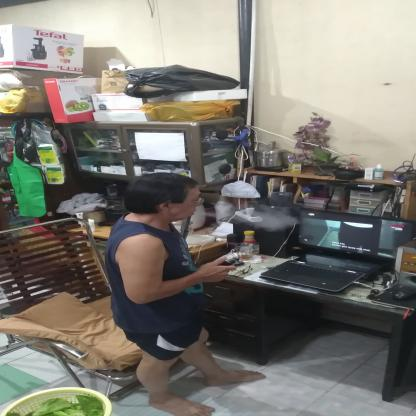person: (104, 170, 256, 414)
smoke: (255, 208, 295, 232)
